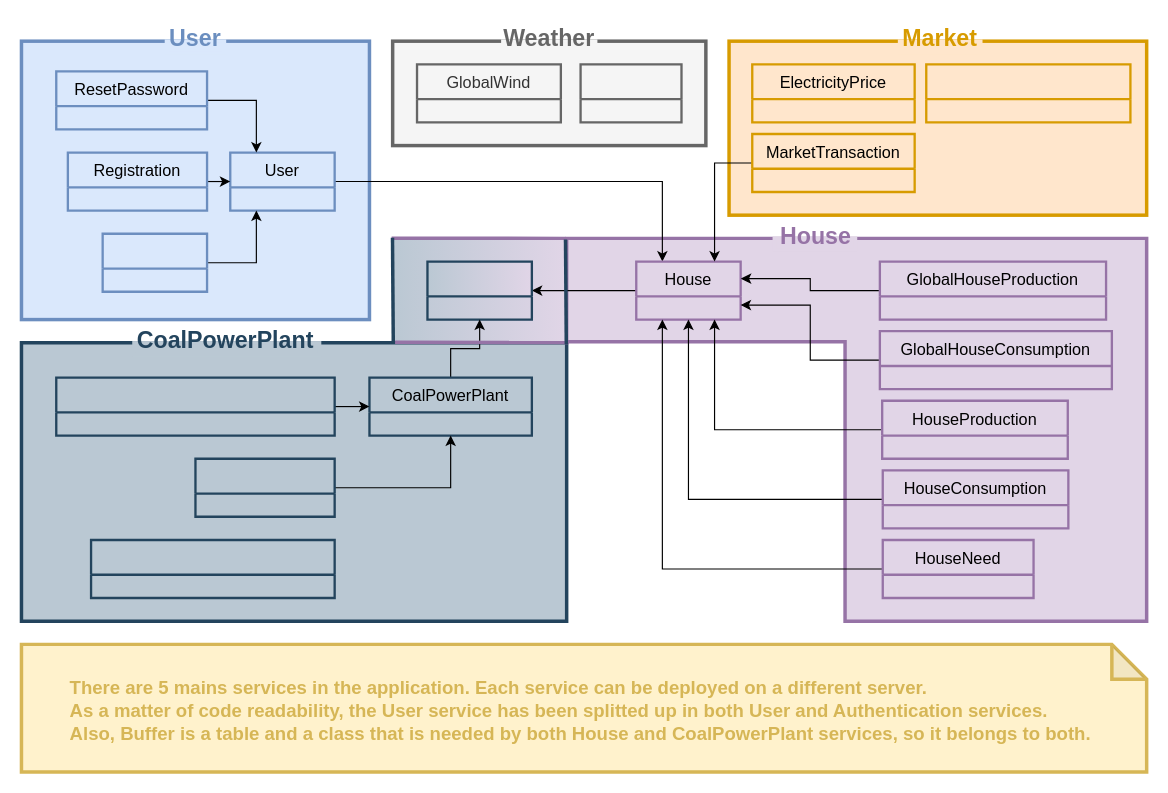
Some shapes in this 1168 by 793 pixel diagram are drawn without their labels. The box of each missing label's shape, as (x1, y1, x2, y2) in pixels:
BlockUser: (101, 232, 208, 292)
Buffer: (426, 260, 532, 320)
CoalProduction: (194, 457, 335, 517)
GlobalCoalPowerPlantProduction: (55, 376, 335, 436)
ModeledElectricityPrice: (925, 63, 1131, 123)
TotalProductionConsumption: (89, 538, 335, 599)
Wind: (579, 63, 682, 123)
